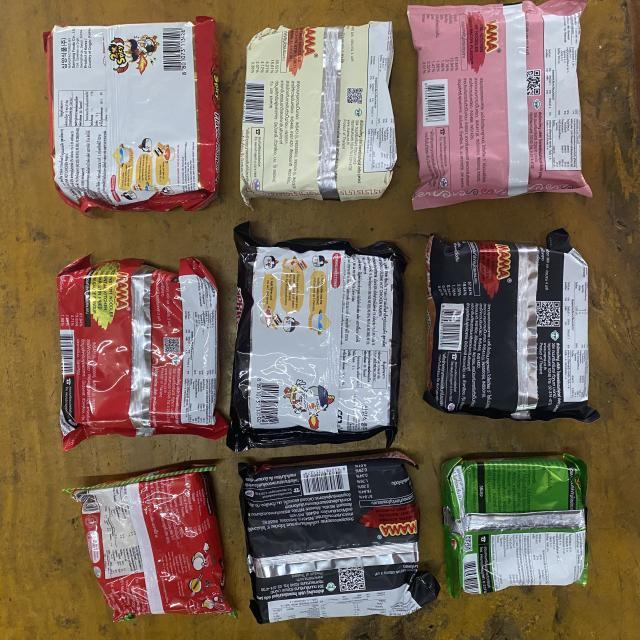plastik: (228, 222, 406, 451), (408, 0, 591, 210), (44, 16, 220, 212), (239, 452, 439, 624), (425, 229, 599, 421), (58, 256, 228, 450), (240, 21, 396, 204), (65, 466, 234, 621), (441, 455, 588, 598)
